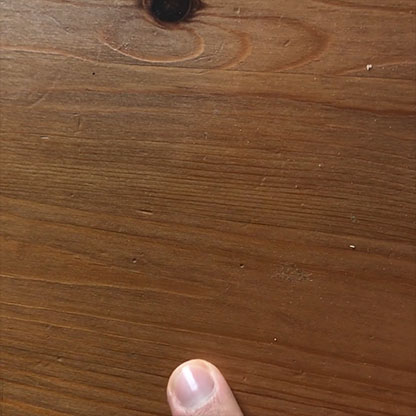fingertip: (157, 354, 248, 415)
